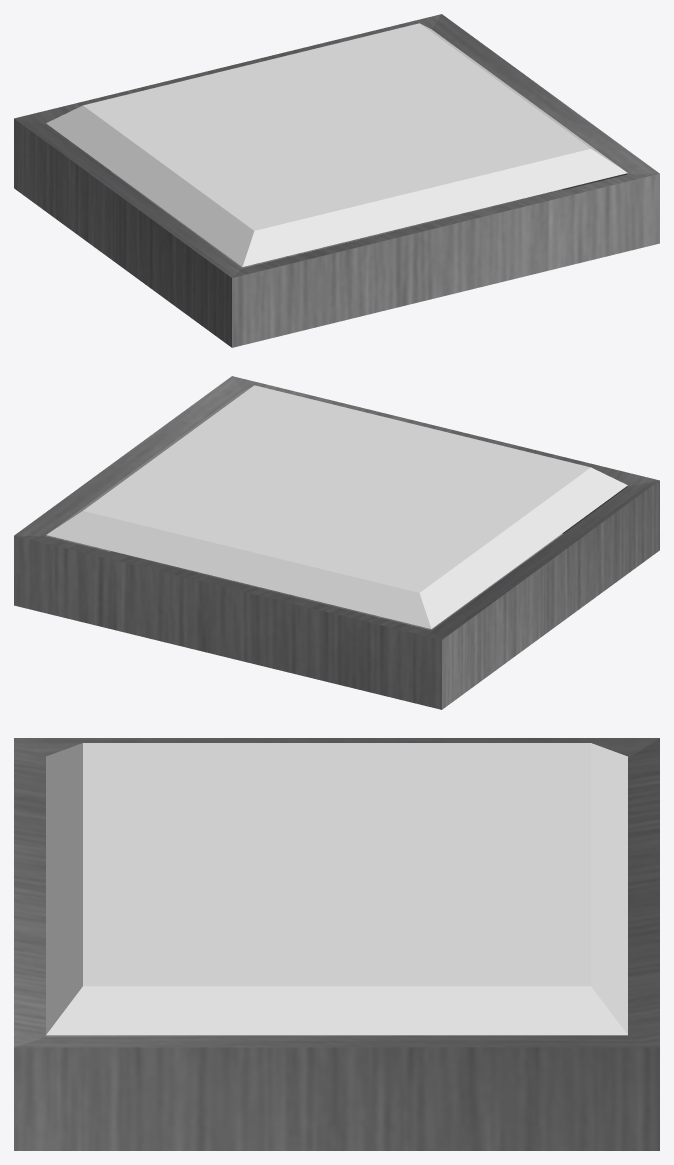
Rendered from button.fbx.
3 renders of one model, top to bottom at view 1: azimuth 30°, elevation 25°; view 2: azimuth 150°, elevation 25°; view 3: azimuth 270°, elevation 25°, orthographic. The views are drawn at different scales.
Parts seen in each view (by area): view 1: pCube341, pCube340; view 2: pCube341, pCube340; view 3: pCube341, pCube340.
Part boxes in pixels (x1,y1,x2,y2): pCube341: [46, 23, 627, 266]; pCube340: [14, 14, 659, 347]; pCube341: [46, 385, 627, 628]; pCube340: [14, 376, 659, 709]; pCube341: [46, 743, 627, 1035]; pCube340: [14, 738, 659, 1150].
Bounding box in the file's own units: 3.78 × 0.7489 × 3.33.
2 materials, 1 textured.
